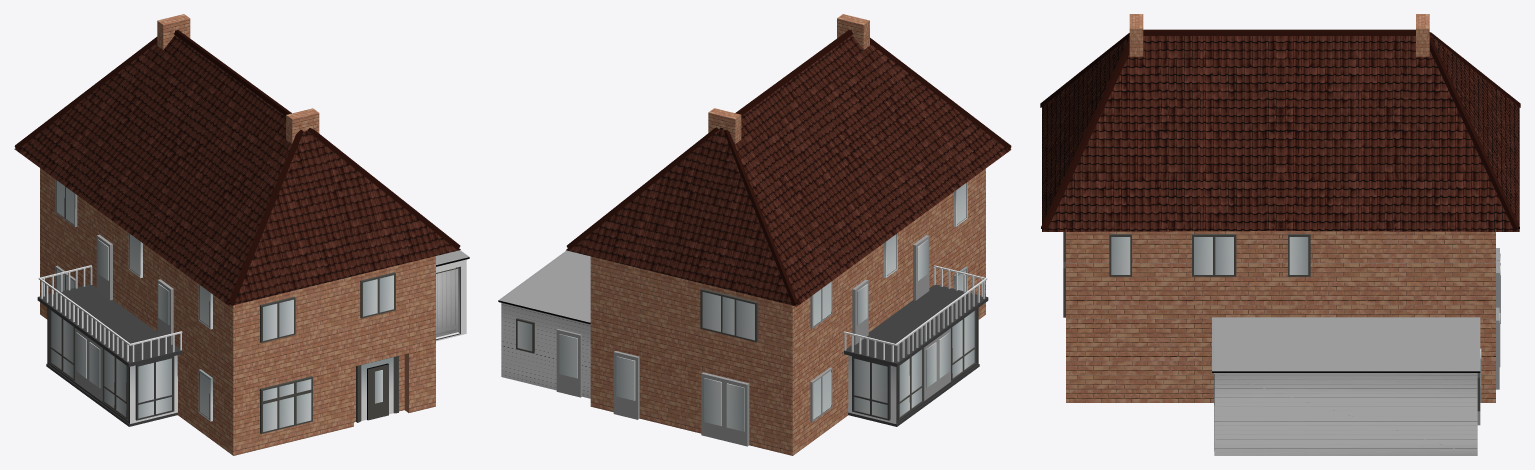
Rendered from Stjelp 4.fbx.
The picture shows the model from 3 angles, left to right: view 1: azimuth 30°, elevation 25°; view 2: azimuth 150°, elevation 25°; view 3: azimuth 270°, elevation 25°; orthographic projection. The views are drawn at different scales.
Visible parts, largest first — view 1: Stjelp_4; view 2: Stjelp_4; view 3: Stjelp_4.
Boxes of the visible parts, x1=… form: Stjelp_4: x1=14, y1=14, x2=469, y2=455; Stjelp_4: x1=498, y1=14, x2=1011, y2=455; Stjelp_4: x1=1040, y1=14, x2=1520, y2=455.
Bounding box in the file's own units: 13.16 × 10.41 × 13.86.
